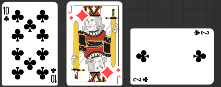10C: (2, 5, 10, 23)
2C: (132, 75, 149, 83)
AC: (192, 29, 210, 36)
